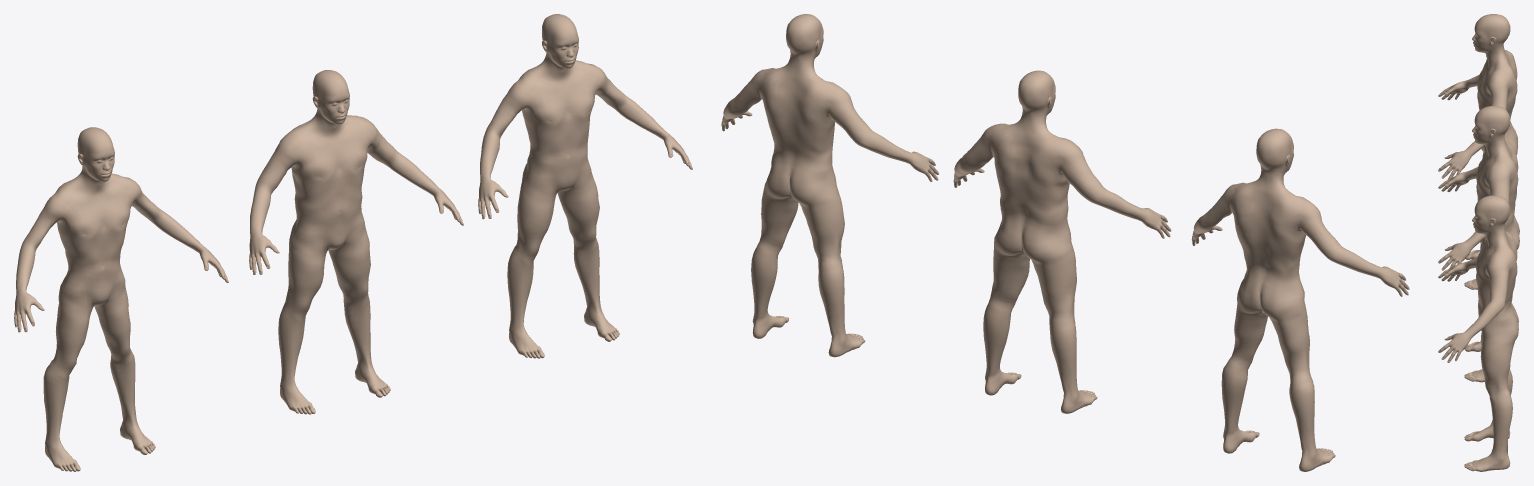
The model's file is Humans-1.glb.
The picture shows the model from 3 angles, left to right: view 1: azimuth 30°, elevation 25°; view 2: azimuth 150°, elevation 25°; view 3: azimuth 270°, elevation 25°; orthographic projection. The views are drawn at different scales.
Parts seen in each view (by area): view 1: human_short_large-base, human_short_regular-base, human_short_small-base; view 2: human_short_large-base, human_short_regular-base, human_short_small-base; view 3: human_short_regular-base, human_short_large-base, human_short_small-base.
Part boxes in pixels (bbox=[...]): human_short_large-base: bbox=[249, 70, 463, 414]; human_short_regular-base: bbox=[478, 14, 692, 358]; human_short_small-base: bbox=[14, 127, 228, 471]; human_short_large-base: bbox=[953, 70, 1171, 413]; human_short_regular-base: bbox=[721, 14, 938, 357]; human_short_small-base: bbox=[1191, 128, 1409, 471]; human_short_regular-base: bbox=[1438, 195, 1518, 471]; human_short_large-base: bbox=[1438, 106, 1519, 382]; human_short_small-base: bbox=[1438, 14, 1517, 289].
Size of the model in its own units: 3.3 by 1.5 by 0.4325.
